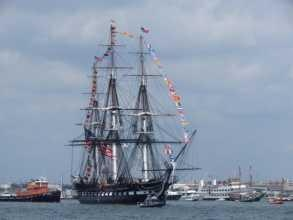fanchuan: (68, 15, 201, 204)
